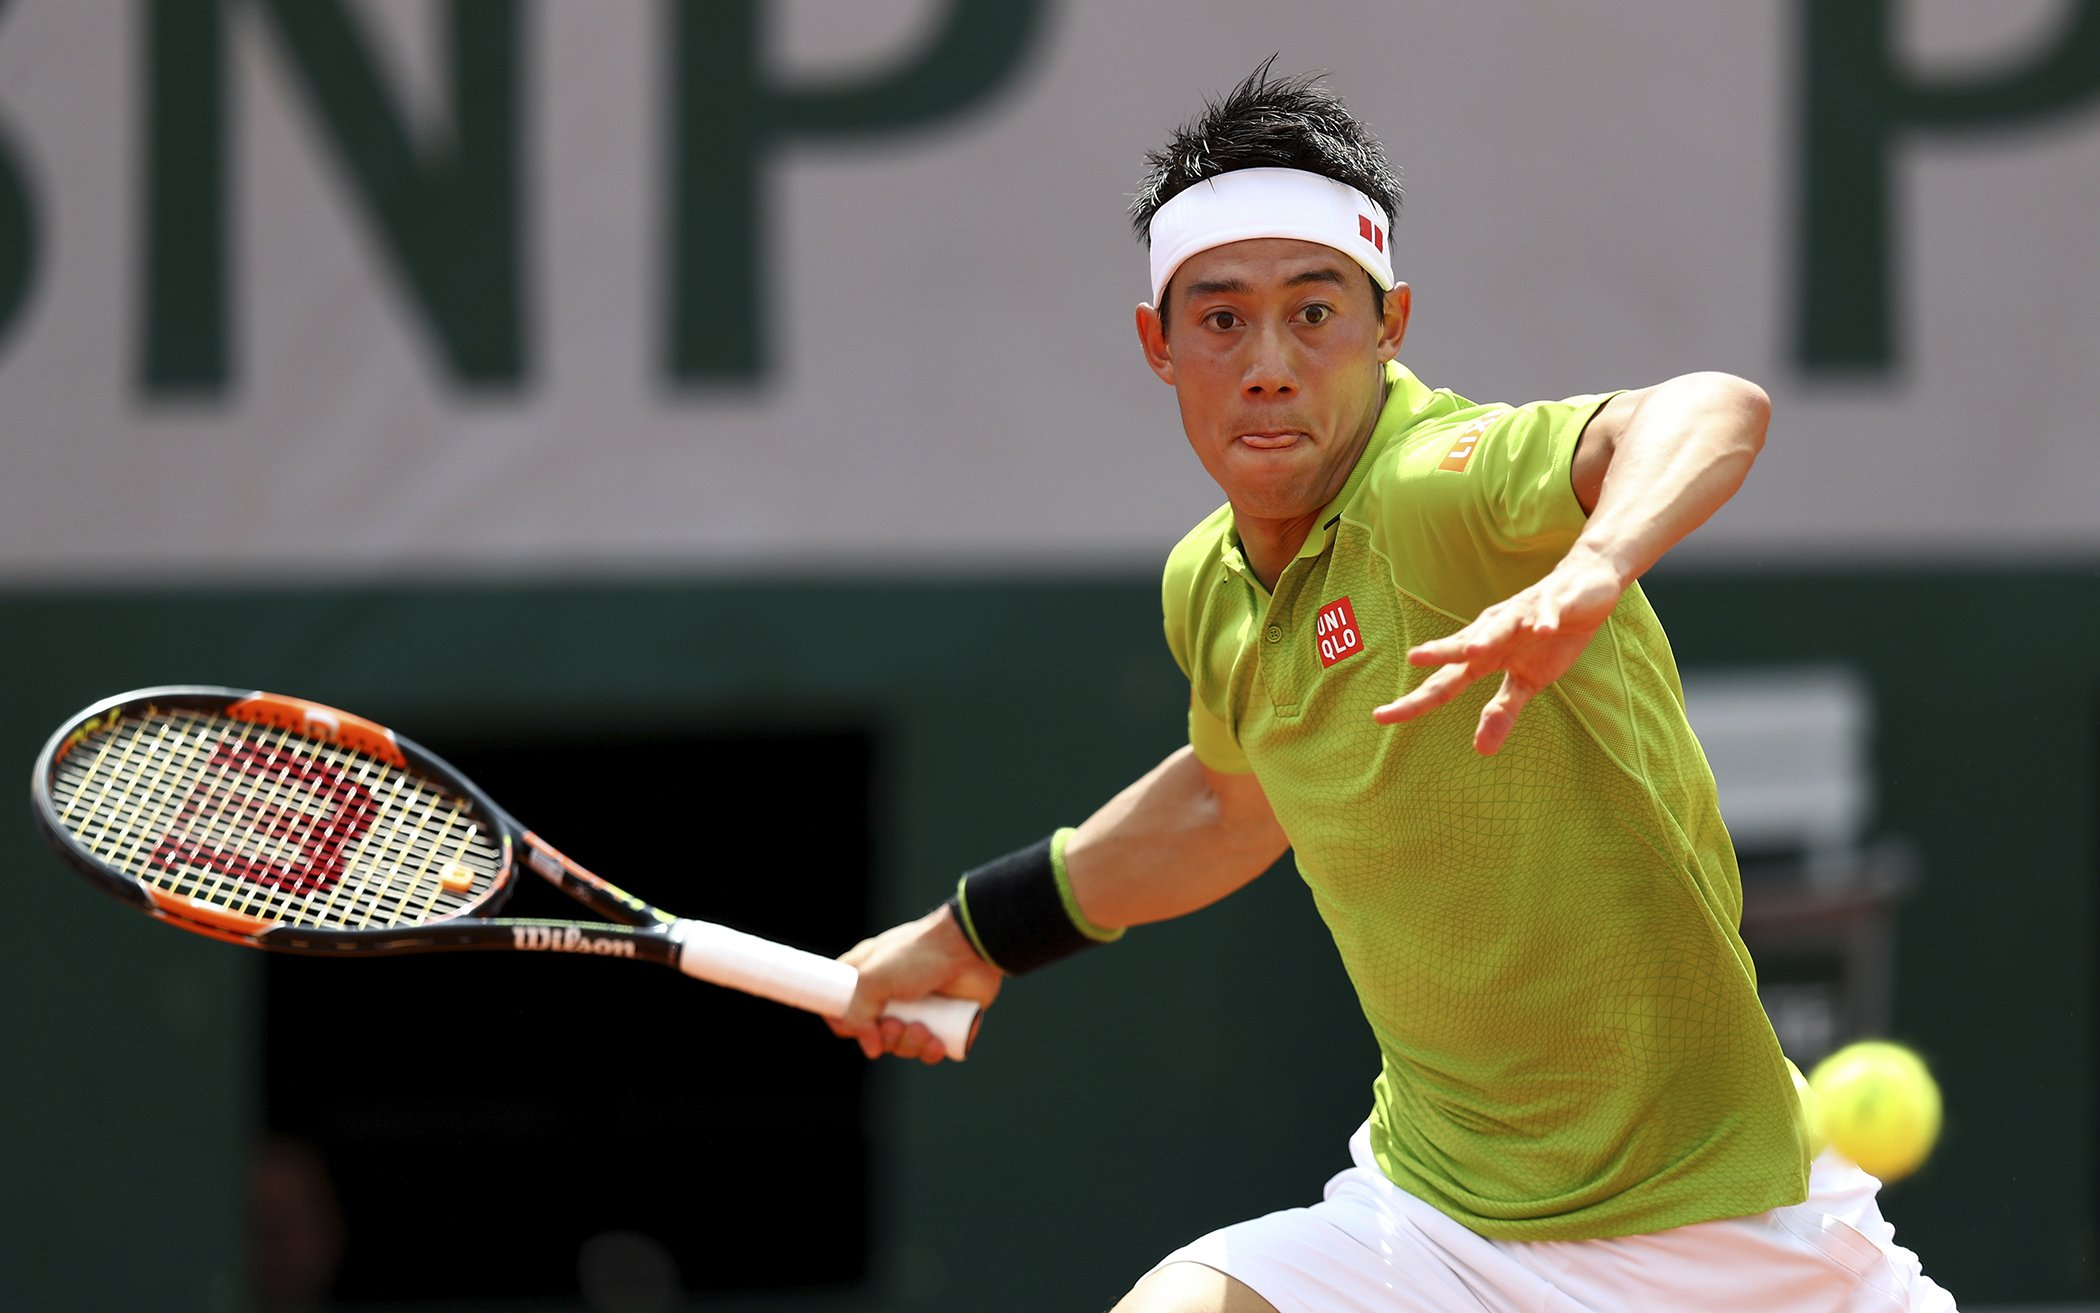tennis ball: (1795, 1032, 1944, 1177)
tennis player: (864, 60, 1956, 1313)
